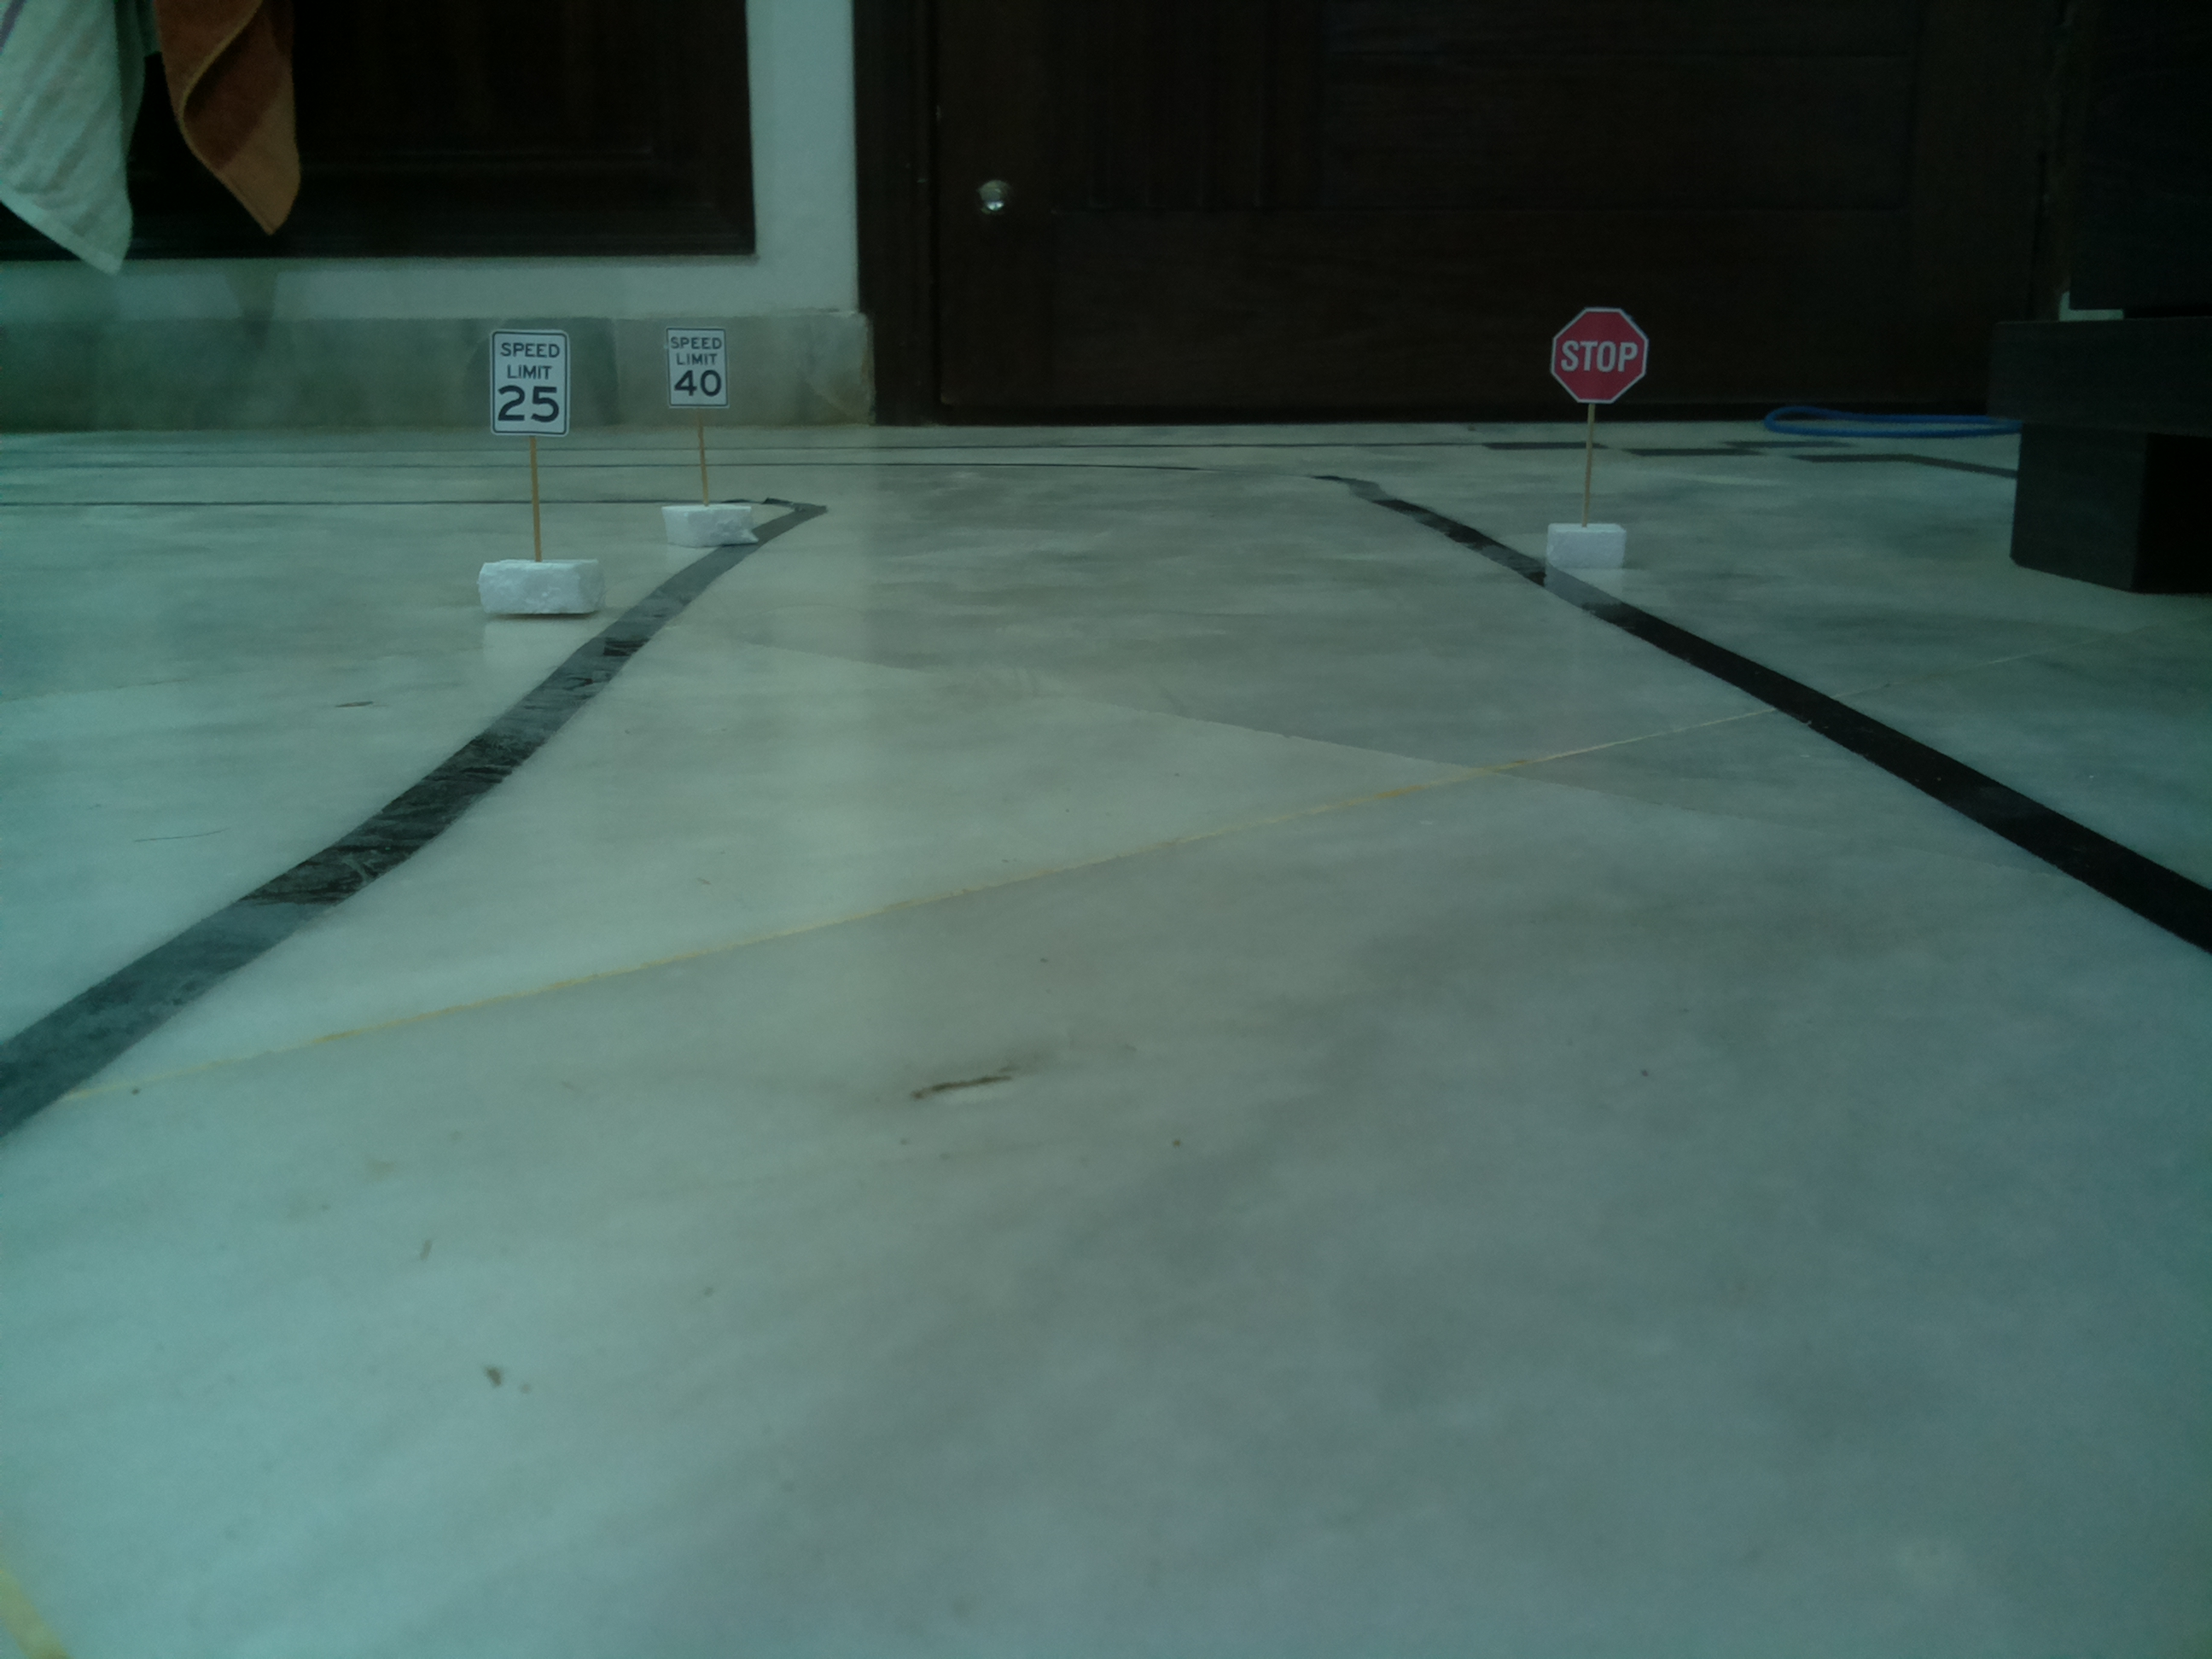Speed limit 25: (484, 324, 577, 439)
Speed limit 40: (665, 328, 735, 415)
Stop sign: (1548, 301, 1655, 404)
